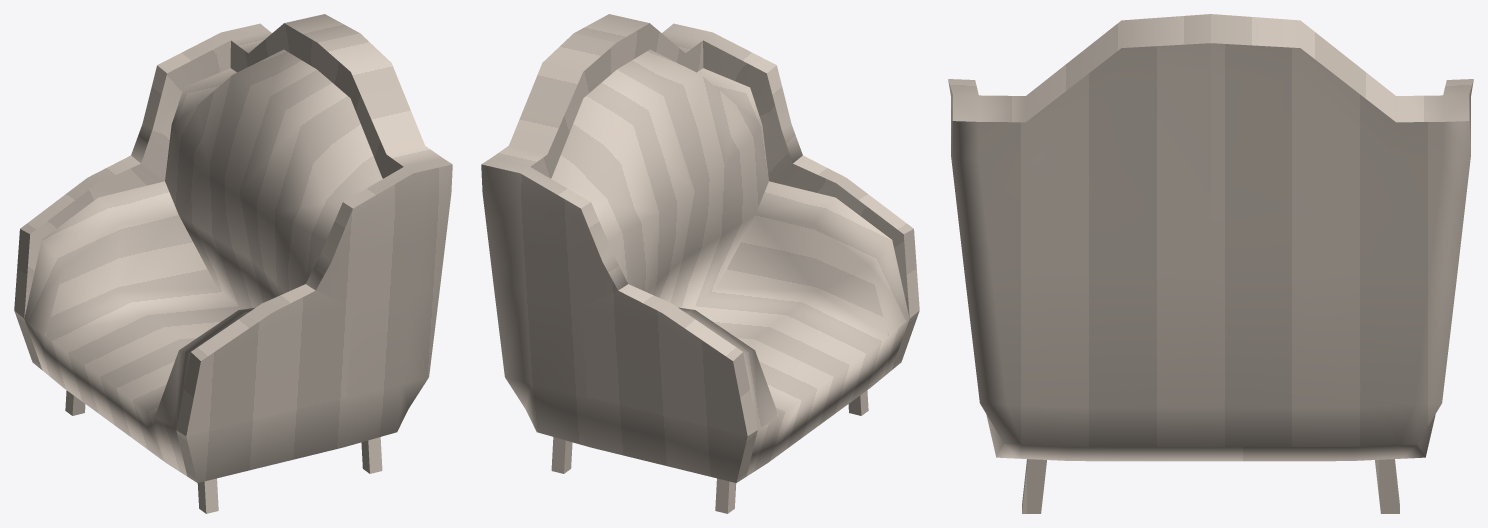
The model's file is Props_ArmChair.fbx.
The picture shows the model from 3 angles, left to right: view 1: azimuth 30°, elevation 25°; view 2: azimuth 150°, elevation 25°; view 3: azimuth 270°, elevation 25°; orthographic projection. The views are drawn at different scales.
Visible parts, largest first — view 1: pCube24; view 2: pCube24; view 3: pCube24.
Boxes of the visible parts, x1,y1,x2,y2 form: pCube24: [14, 14, 452, 513]; pCube24: [481, 14, 919, 513]; pCube24: [948, 14, 1473, 513].
Size of the model in its own units: 0.8557 by 1.18 by 1.12.
